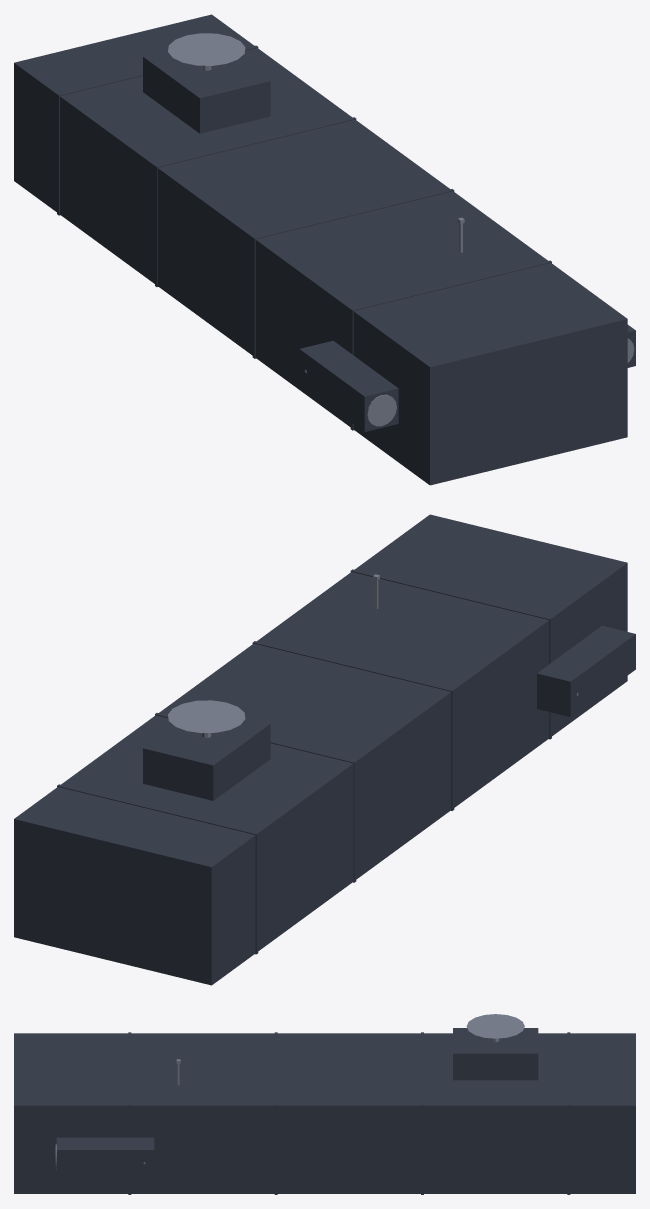
File: hull.glb
The picture shows the model from 3 angles, top to bottom: view 1: azimuth 30°, elevation 25°; view 2: azimuth 150°, elevation 25°; view 3: azimuth 270°, elevation 25°; orthographic projection. The views are drawn at different scales.
Visible parts, largest first — view 1: hull; view 2: hull; view 3: hull.
Boxes of the visible parts, box(x1,y1,x2,y2) form: hull: box(14, 14, 635, 485); hull: box(14, 514, 635, 985); hull: box(14, 1014, 635, 1194).
Size of the model in its own units: 9.64 by 5.98 by 25.5.
